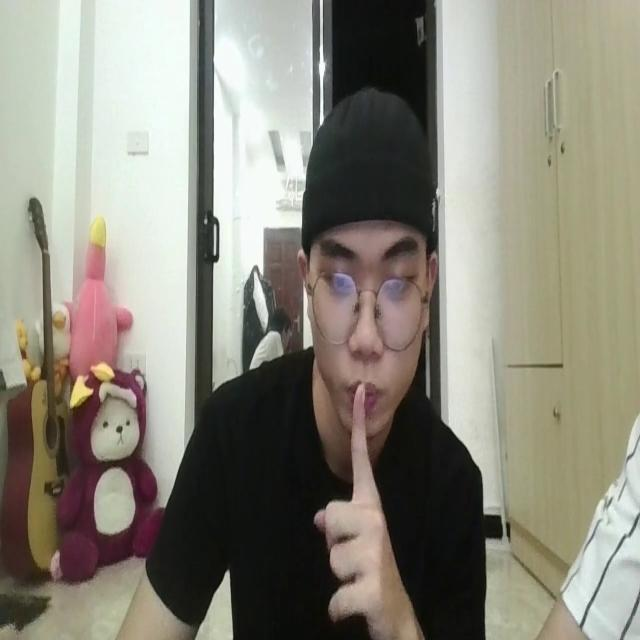student: (118, 82, 490, 640)
